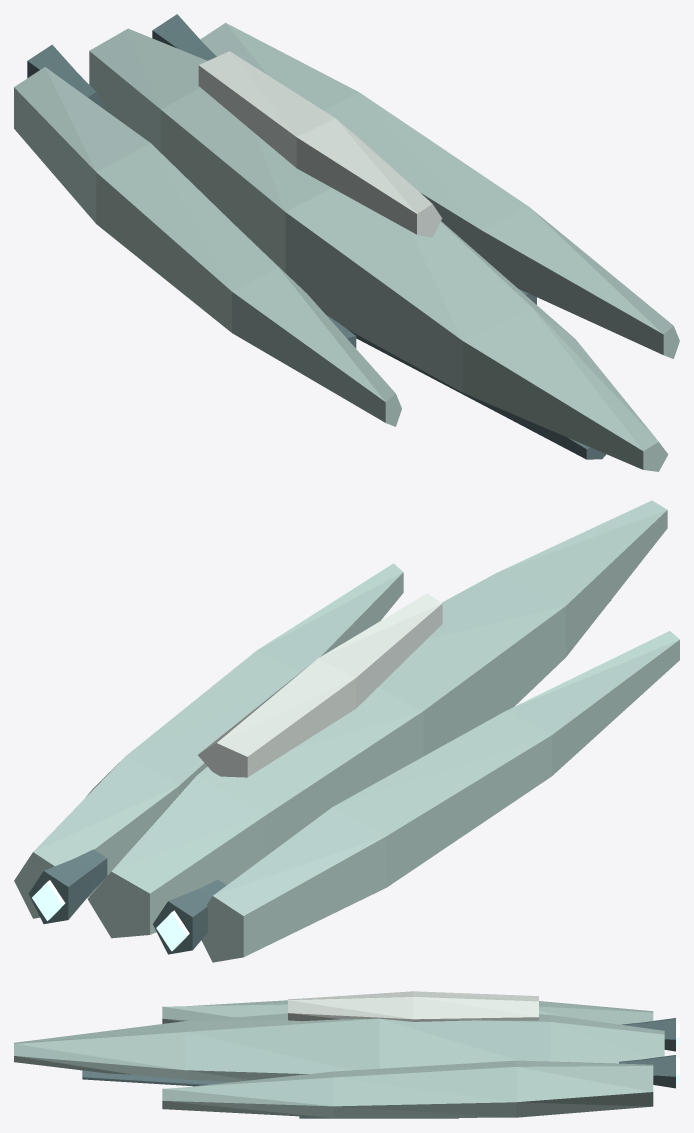
The picture shows the model from 3 angles, top to bottom: view 1: azimuth 30°, elevation 25°; view 2: azimuth 150°, elevation 25°; view 3: azimuth 270°, elevation 25°; orthographic projection. The views are drawn at different scales.
Bounding box in the file's own units: 7.75 × 3.71 × 22.67.
